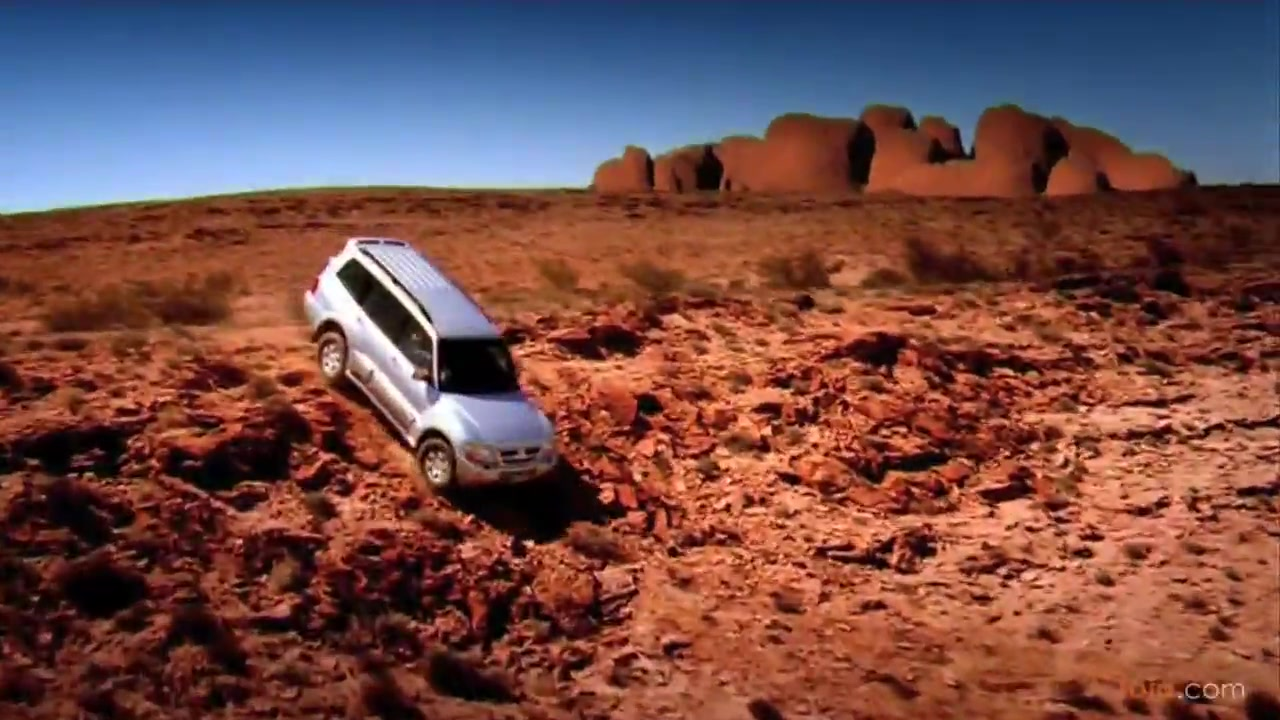car: (308, 228, 561, 492)
